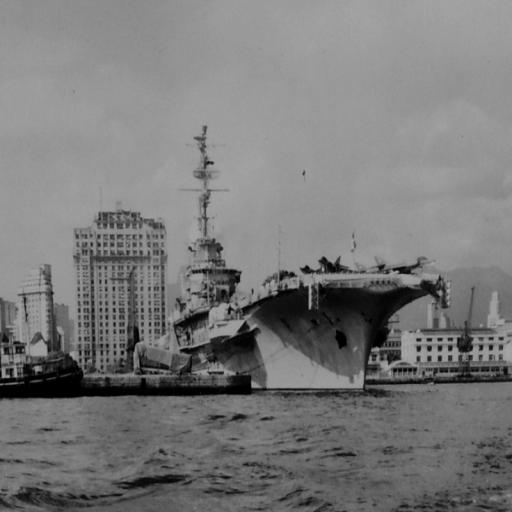Portanaves: (99, 122, 450, 401)
